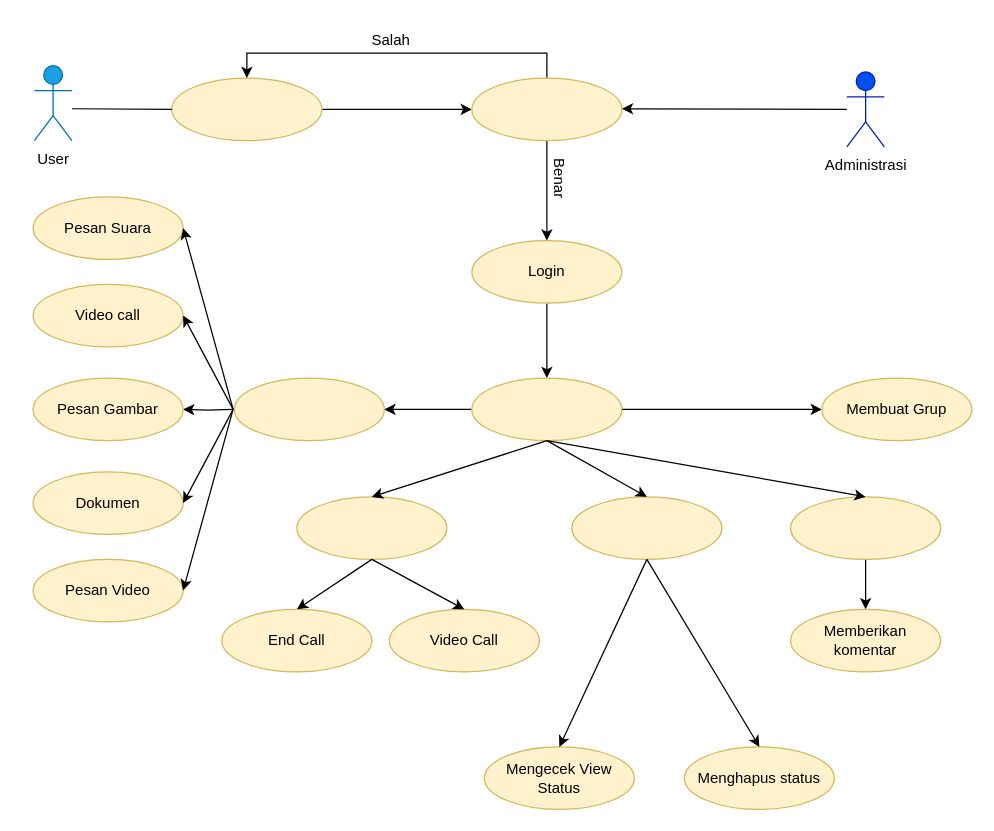
Some shapes in this 994 by 831 pixel diagram are drawn without their labels. Each missing label, with the centre of its shape:
Konfirmasi Data: (x=546, y=109)
Melakukan Panggilan: (x=371, y=527)
Melihat Status: (x=865, y=527)
Membuat Status: (x=646, y=527)
Mencari Kontak: (x=546, y=409)
Mengirim Pesan: (x=308, y=409)
Registrasi no HP: (x=246, y=109)
